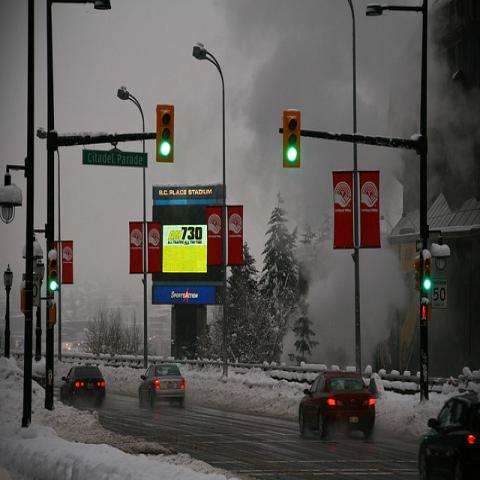car: (299, 368, 375, 438), (417, 390, 479, 474), (138, 364, 186, 407), (60, 366, 106, 407)
